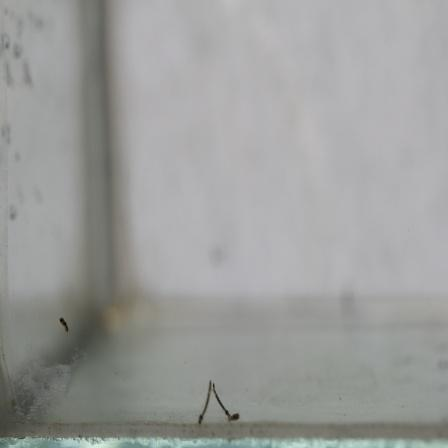Jentik-Nyamuk: (56, 314, 72, 337)
